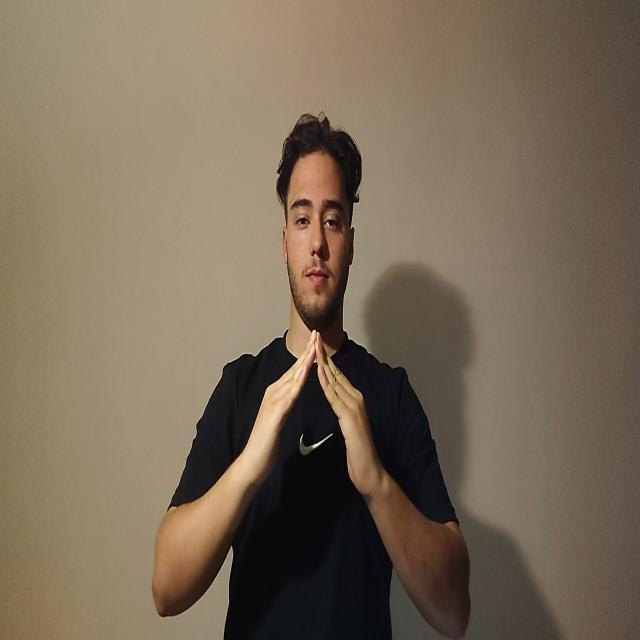house: (242, 328, 378, 500)
